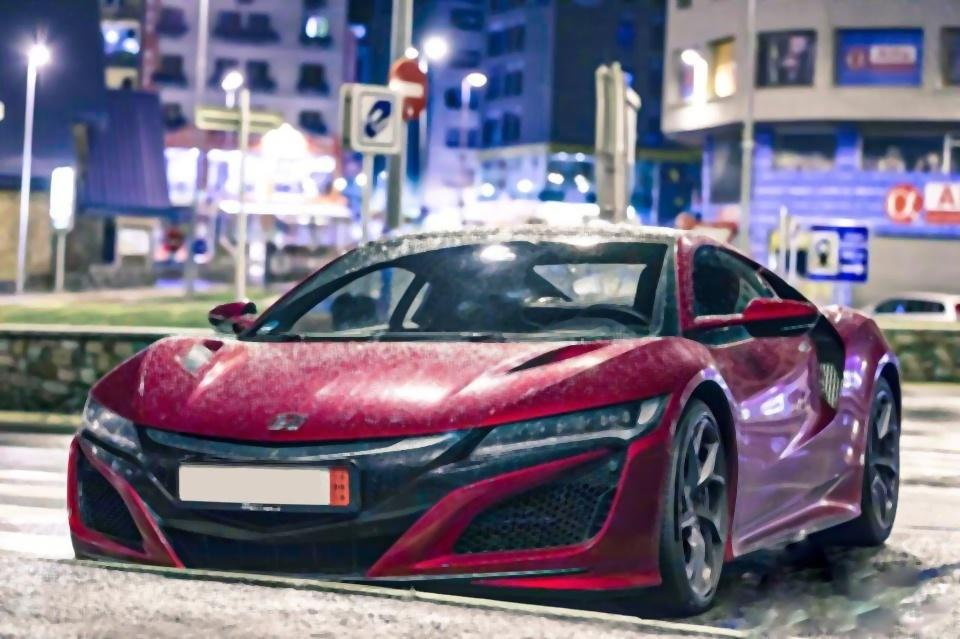Car hood: (86, 332, 705, 436)
Front bumper: (58, 429, 677, 601)
Headlight - -L-: (451, 389, 675, 460)
Headlight - -R-: (81, 392, 147, 465)
Passenger-s door - -F-L-: (673, 225, 857, 564)
Side bumper - -L-: (721, 474, 872, 583)
Side mirror - -L-: (686, 294, 819, 345)
Side mirror - -R-: (205, 299, 262, 336)
